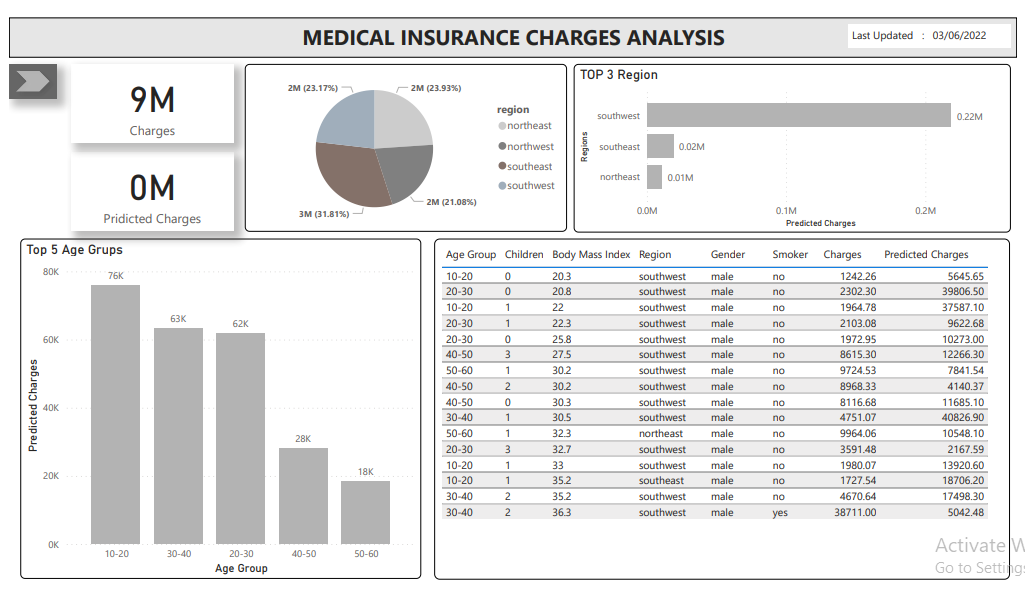

What the dashboard file says about the page in this screenshot:
{"tool":"powerbi","page":{"name":"Page 1","canvas":[1280,720],"ordinal":0},"visuals":[{"type":"clusteredColumnChart","title":"Top 5 Age Grups","fields":{"Category":["insurance.Age Group"],"Y":["Sum(predicted_charges.Predicted_Charges)"]},"box":[13.7,280.9,508.9,431.6],"z":0},{"type":"card","fields":{"Values":["key Measures (2).Total_Pridicted_Charges"]},"box":[79.9,172,205.8,100.4],"z":1000},{"type":"card","fields":{"Values":["key Measures (2).Total_Charges"]},"box":[79.9,59.4,205.8,100.4],"z":2000},{"type":"actionButton","box":[0,59.4,60.4,44],"z":6000},{"type":"textbox","box":[0,0,1280,51.2],"z":8000},{"type":"barChart","title":"TOP  3 Region","fields":{"Y":["key Measures (2).Total_Pridicted_Charges"],"Category":["insurance.region"]},"box":[716.8,58.4,555,214],"z":9000},{"type":"pieChart","fields":{"Category":["insurance.region"],"Y":["key Measures (2).Total_Charges"]},"box":[300,59.4,408.6,213],"z":10000},{"type":"textbox","box":[1065.7,8.8,205.5,30.3],"z":12000},{"type":"tableEx","fields":{"Values":["insurance.Age Group","insurance.children","insurance.bmi","insurance.region","insurance.sex","insurance.smoker","insurance.charges","predicted_charges.Predicted_Charges"]},"box":[540.2,280.9,731,432.5],"z":13000}]}

Visuals, with their boxes in screenshot pixels (x1, y1, x2, y2), scaled from the page's 1280x720 canvas onto the 1025x594 screenshot:
"Top 5 Age Grups" clusteredColumnChart: <box>11,232,418,588</box>
card - key Measures (2).Total_Pridicted_Charges: <box>64,142,229,225</box>
card - key Measures (2).Total_Charges: <box>64,49,229,132</box>
actionButton: <box>0,49,48,85</box>
textbox: <box>0,0,1024,42</box>
"TOP  3 Region" barChart: <box>574,48,1018,225</box>
pieChart - insurance.region x key Measures (2).Total_Charges: <box>240,49,567,225</box>
textbox: <box>853,7,1018,32</box>
tableEx - insurance.Age Group x insurance.children: <box>433,232,1018,589</box>
